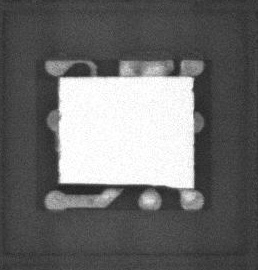DIE_BROKEN: (59, 182, 178, 188)
